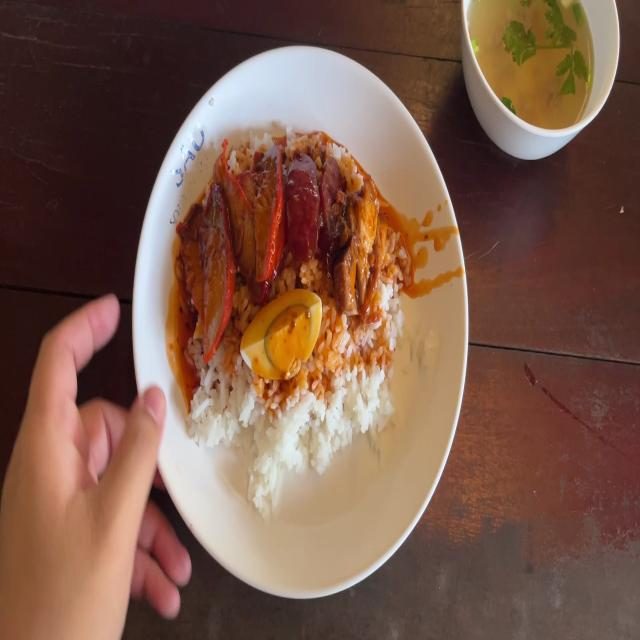01boiled_egg: (246, 289, 314, 372)
01chainese_sausage: (289, 152, 353, 266)
01crispy_pork: (339, 190, 393, 324)
01red_pork: (170, 156, 287, 300)
01red_pork_and_crispy_pork: (177, 138, 403, 475)
01rice: (229, 378, 320, 494), (323, 341, 394, 451), (183, 339, 242, 448)
